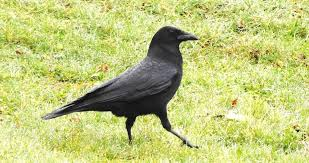Walking: (40, 14, 240, 156)
